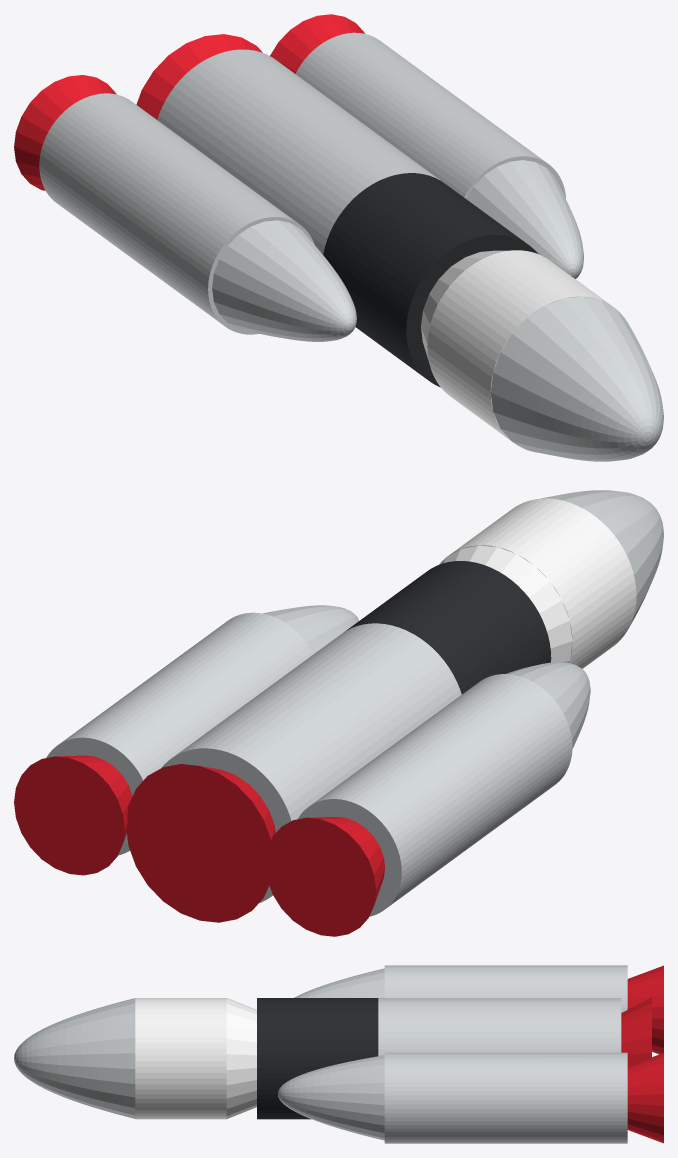
The model's file is tinker.obj.
The picture shows the model from 3 angles, top to bottom: view 1: azimuth 30°, elevation 25°; view 2: azimuth 150°, elevation 25°; view 3: azimuth 270°, elevation 25°; orthographic projection. The views are drawn at different scales.
Visible parts, largest first — view 1: group_0_14541540, group_0_2829873, group_0_16448250, group_0_15277357; view 2: group_0_14541540, group_0_15277357, group_0_16448250, group_0_2829873; view 3: group_0_14541540, group_0_16448250, group_0_2829873, group_0_15277357.
Boxes of the visible parts, x1,y1,x2,y2 form: group_0_14541540: (39, 32, 663, 461); group_0_2829873: (323, 173, 537, 387); group_0_16448250: (421, 250, 625, 452); group_0_15277357: (14, 14, 364, 190); group_0_14541540: (46, 490, 663, 916); group_0_15277357: (14, 755, 384, 936); group_0_16448250: (439, 498, 636, 668); group_0_2829873: (346, 561, 551, 694); group_0_14541540: (14, 965, 627, 1143); group_0_16448250: (135, 998, 256, 1119); group_0_2829873: (257, 998, 378, 1119); group_0_15277357: (621, 965, 663, 1143).
Bounding box in the file's own units: 49 × 20 × 107.
